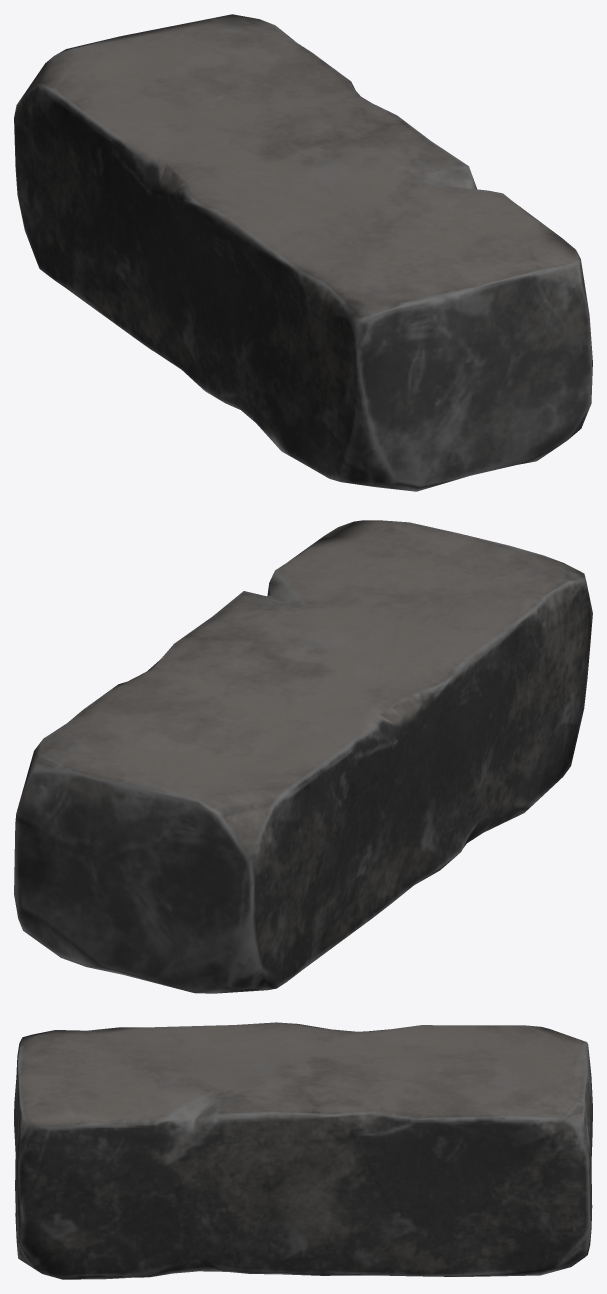
The model's file is stone2.fbx.
The picture shows the model from 3 angles, top to bottom: view 1: azimuth 30°, elevation 25°; view 2: azimuth 150°, elevation 25°; view 3: azimuth 270°, elevation 25°; orthographic projection. The views are drawn at different scales.
Parts seen in each view (by area): view 1: Object094; view 2: Object094; view 3: Object094.
Part boxes in pixels (box(x1,y1,x2,y2)): Object094: box(14, 14, 592, 491); Object094: box(14, 520, 592, 993); Object094: box(14, 1022, 592, 1279).
Size of the model in its own units: 24.33 by 19.15 by 59.73.
